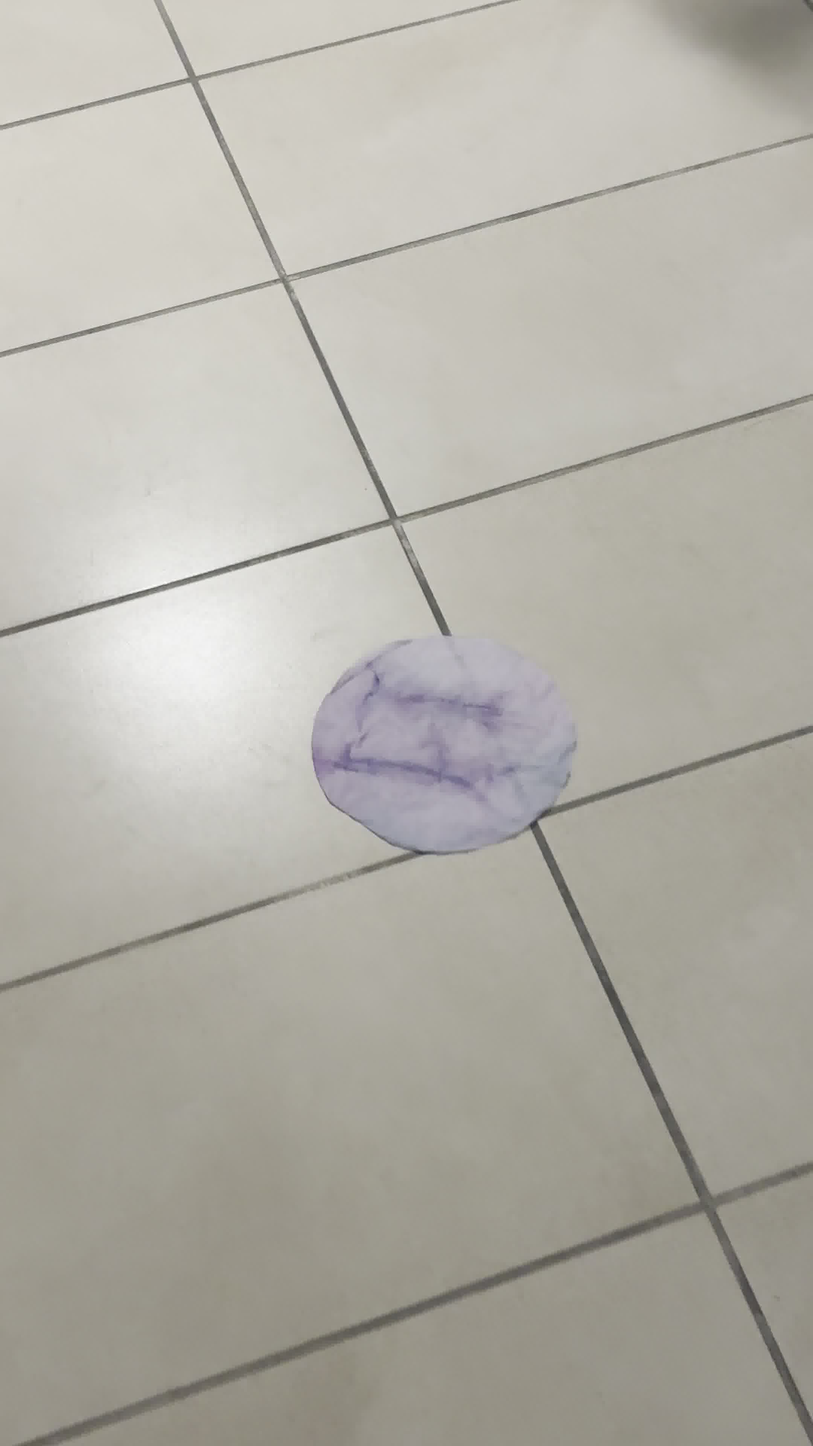Target: (312, 634, 578, 855)
